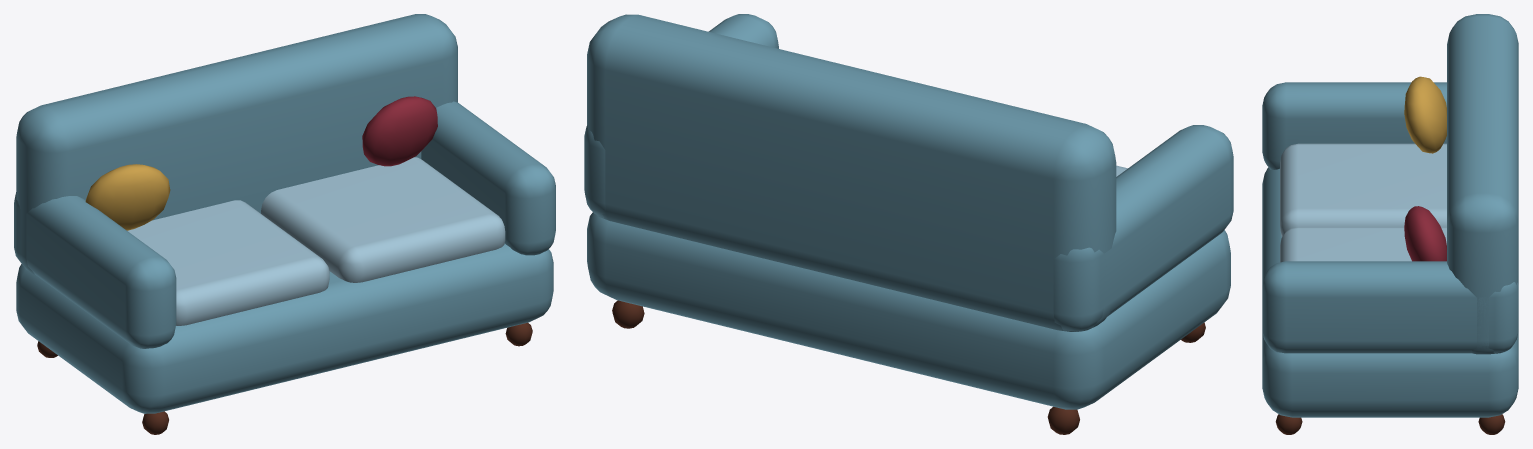
File: sofa.glb
The picture shows the model from 3 angles, left to right: view 1: azimuth 30°, elevation 25°; view 2: azimuth 150°, elevation 25°; view 3: azimuth 270°, elevation 25°; orthographic projection. The views are drawn at different scales.
Visible parts, largest first — view 1: sofa; view 2: sofa; view 3: sofa.
Part boxes in pixels (box(x1,y1,x2,y2)): sofa: box(14, 14, 555, 434); sofa: box(584, 14, 1233, 434); sofa: box(1262, 14, 1518, 434).
Size of the model in its own units: 1.6 by 0.9 by 0.86.
